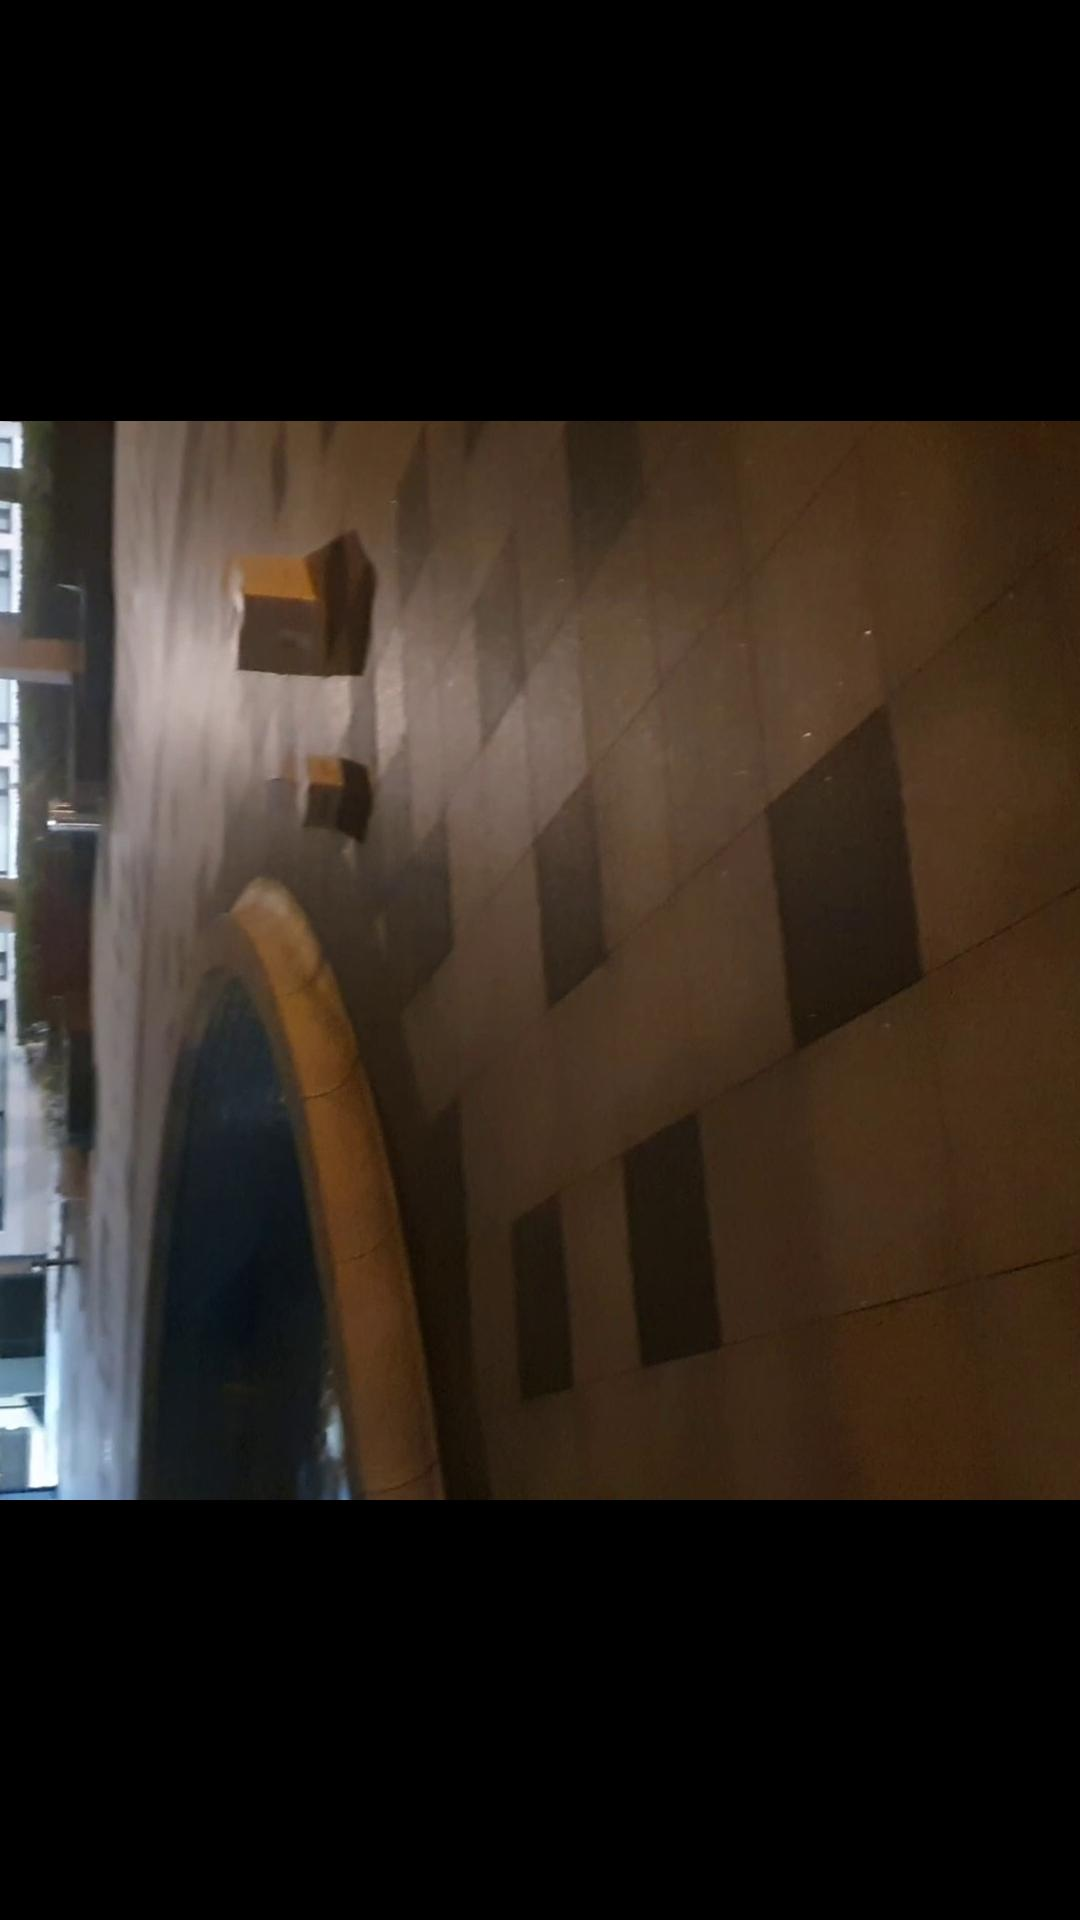Box: (214, 551, 360, 687), (284, 753, 348, 833)
